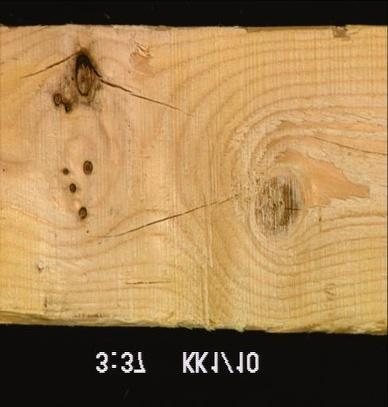dry_knot: (80, 159, 93, 175), (76, 205, 88, 220)
small_knot: (67, 182, 77, 194), (60, 166, 69, 176)
sound_knot: (252, 174, 298, 234)
split: (91, 192, 240, 240), (96, 72, 200, 120), (302, 131, 387, 164), (13, 45, 81, 83), (120, 277, 187, 287)
wave: (0, 301, 144, 325), (238, 25, 356, 47), (131, 24, 201, 40)
